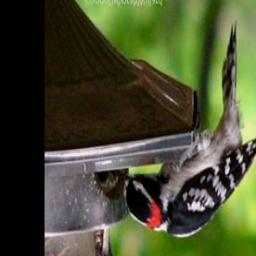Woodpecker: (115, 19, 256, 241)
